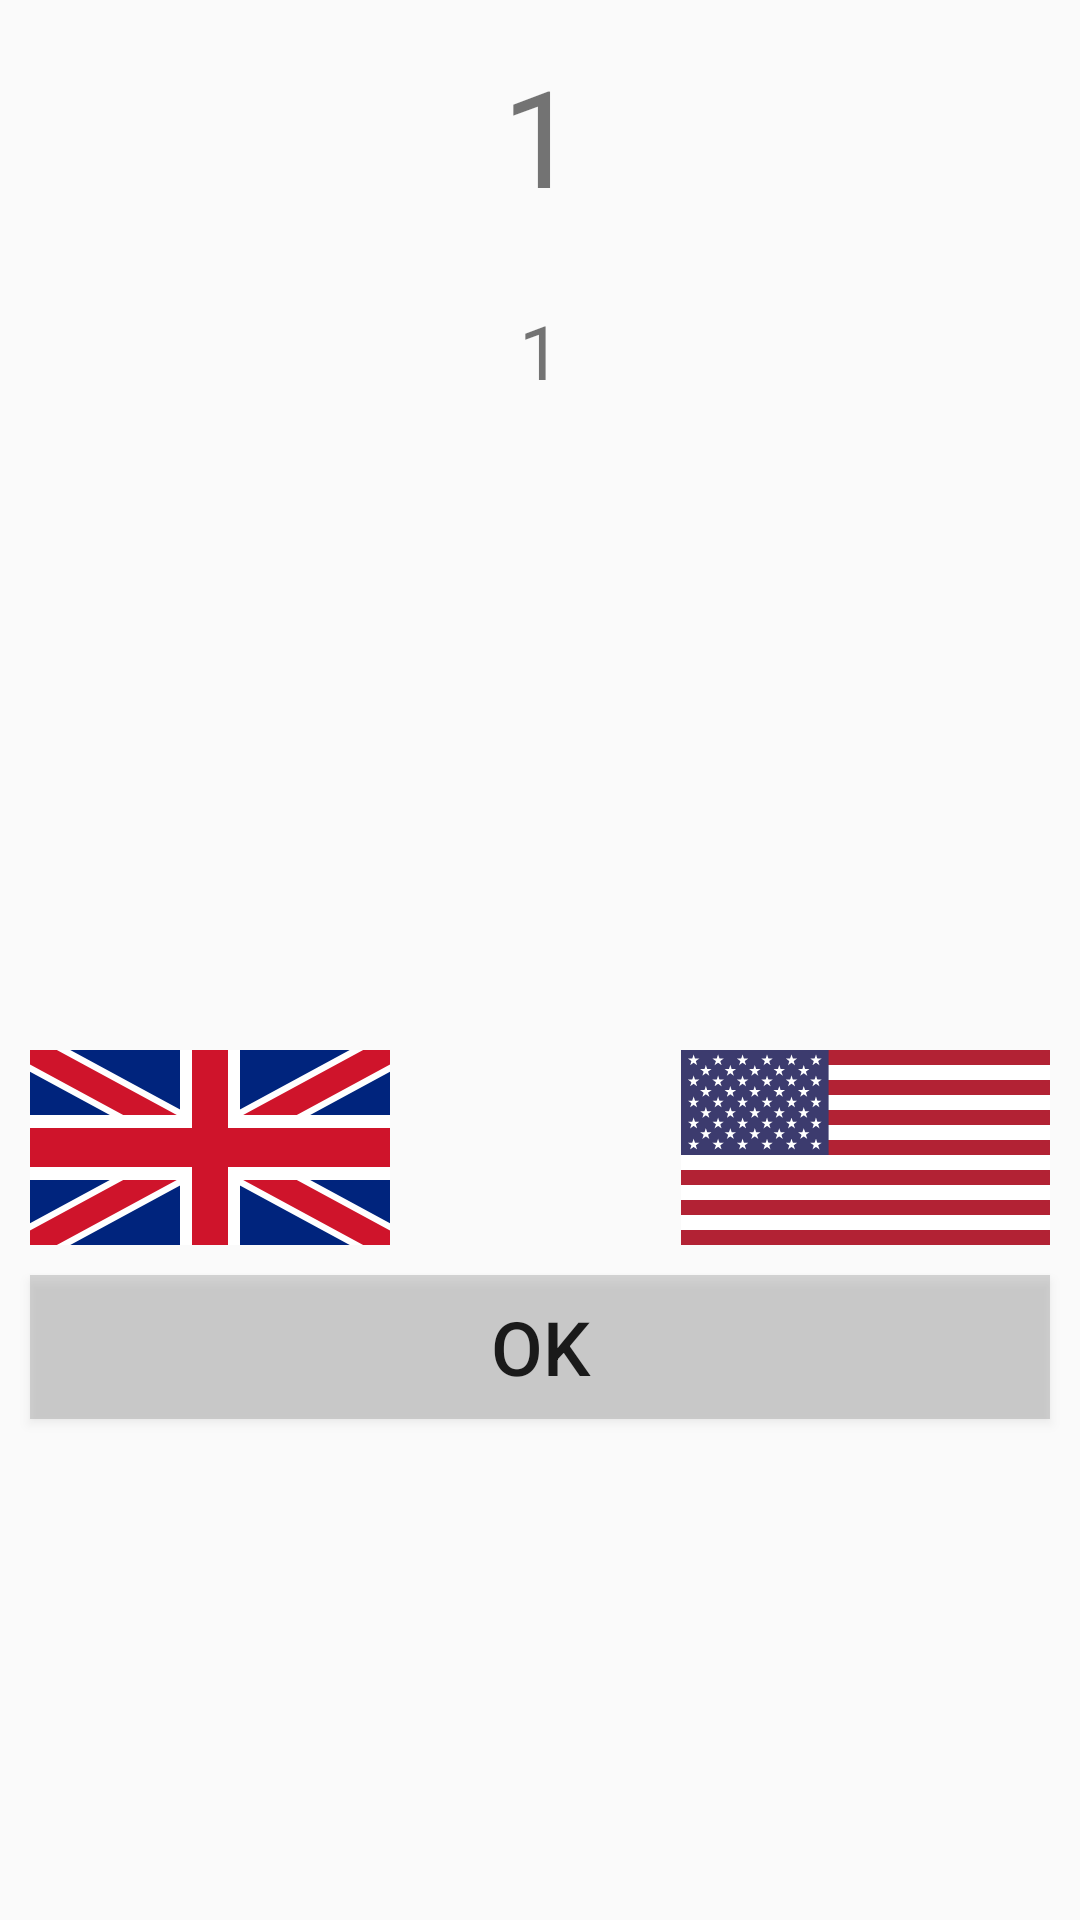

Where to tap for icons on this 1080 x 1920 app screen, as (x=x, y=y):
uk flag: (x=210, y=1147)
